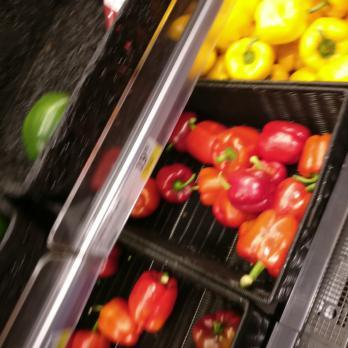Capsicum: (179, 112, 301, 259), (219, 0, 348, 80), (117, 269, 182, 334), (194, 306, 244, 347)
